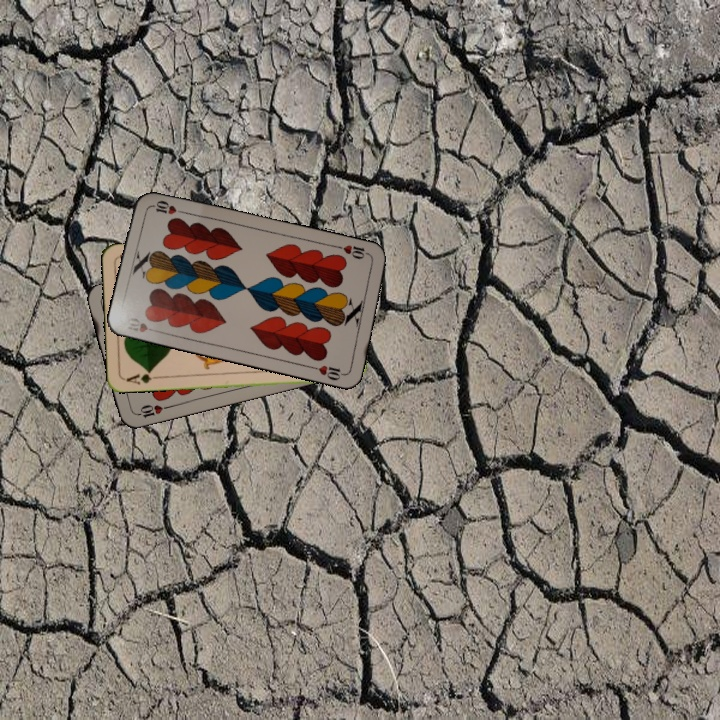GA: (122, 367, 162, 387)
H10: (121, 313, 161, 335), (333, 241, 373, 262), (131, 401, 171, 421)
